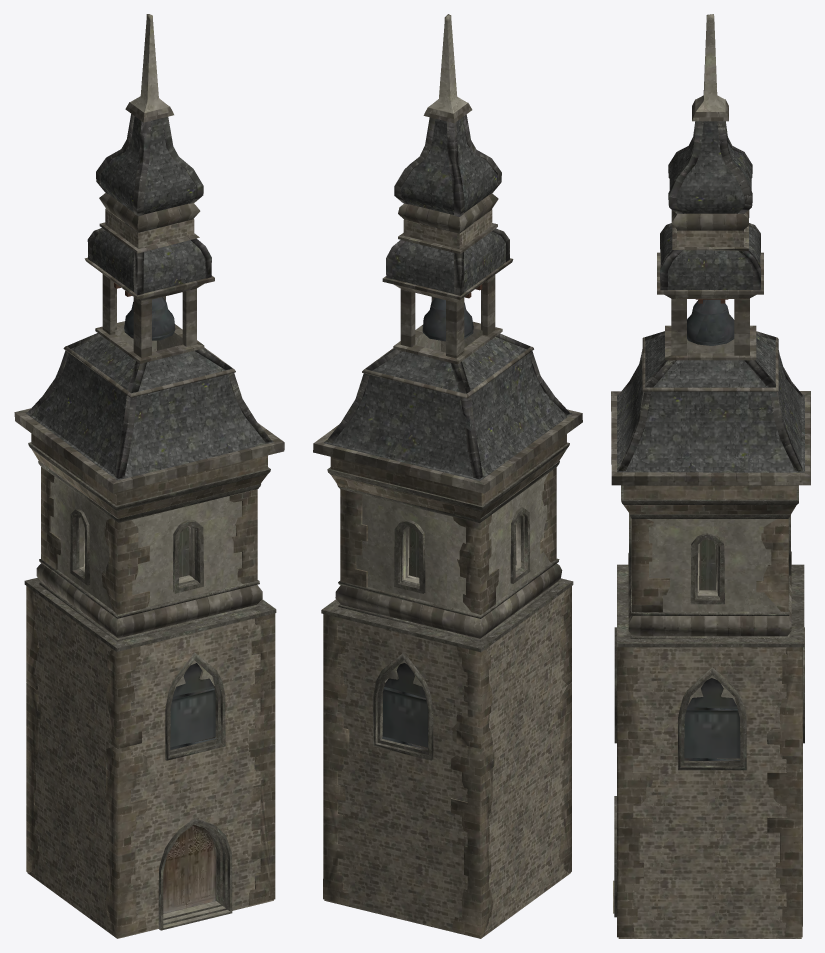
File: stopwatch_diorama.glb
3 renders of one model, left to right at view 1: azimuth 30°, elevation 25°; view 2: azimuth 150°, elevation 25°; view 3: azimuth 270°, elevation 25°, orthographic.
Visible parts, largest first — view 1: KB3D_DKF_Tower_C_Main; view 2: KB3D_DKF_Tower_C_Main; view 3: KB3D_DKF_Tower_C_Main.
Boxes of the visible parts, <box> form: KB3D_DKF_Tower_C_Main: <box>14,14,284,938</box>; KB3D_DKF_Tower_C_Main: <box>313,14,582,938</box>; KB3D_DKF_Tower_C_Main: <box>611,14,810,938</box>.
Bounding box in the file's own units: 4.1 × 19.86 × 4.06.
Materials: 14 (14 with a texture image).
